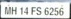character: (4, 6, 11, 14), (11, 6, 17, 15), (30, 5, 35, 15), (58, 6, 63, 16), (36, 6, 41, 15), (44, 6, 49, 15), (23, 6, 28, 14), (54, 6, 58, 16), (19, 6, 23, 15), (49, 6, 53, 15)
